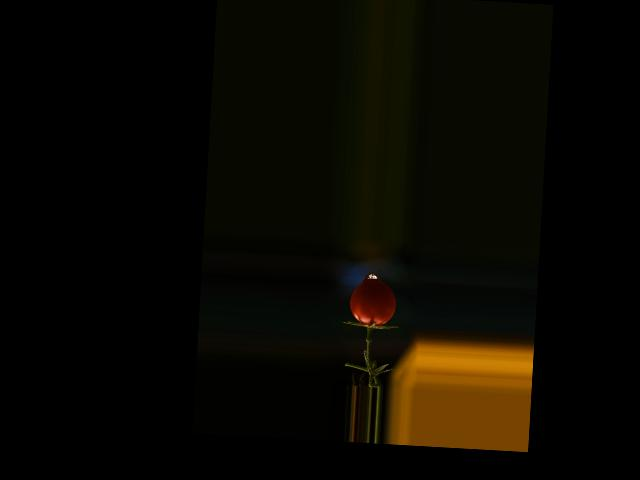tomato: (348, 279, 396, 326)
